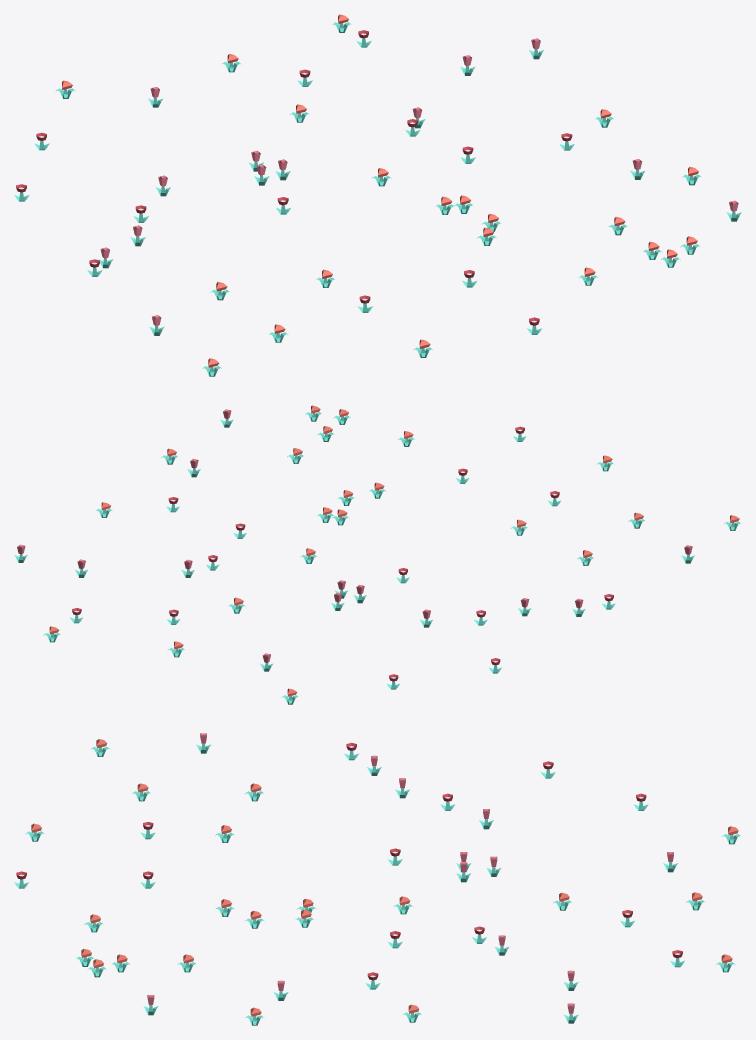
Rendered from red1.fbx.
3 renders of one model, top to bottom at view 1: azimuth 30°, elevation 25°; view 2: azimuth 150°, elevation 25°; view 3: azimuth 270°, elevation 25°, orthographic. The views are drawn at different scales.
Parts seen in each view (by area): view 1: flower_purpleB25; view 2: flower_purpleB25; view 3: flower_purpleB25.
Boxes of the visible parts, bbox=[...] form: flower_purpleB25: bbox=[14, 14, 741, 376]; flower_purpleB25: bbox=[14, 405, 740, 704]; flower_purpleB25: bbox=[14, 733, 740, 1025].
Size of the model in its own units: 40.77 by 1.75 by 45.49.
